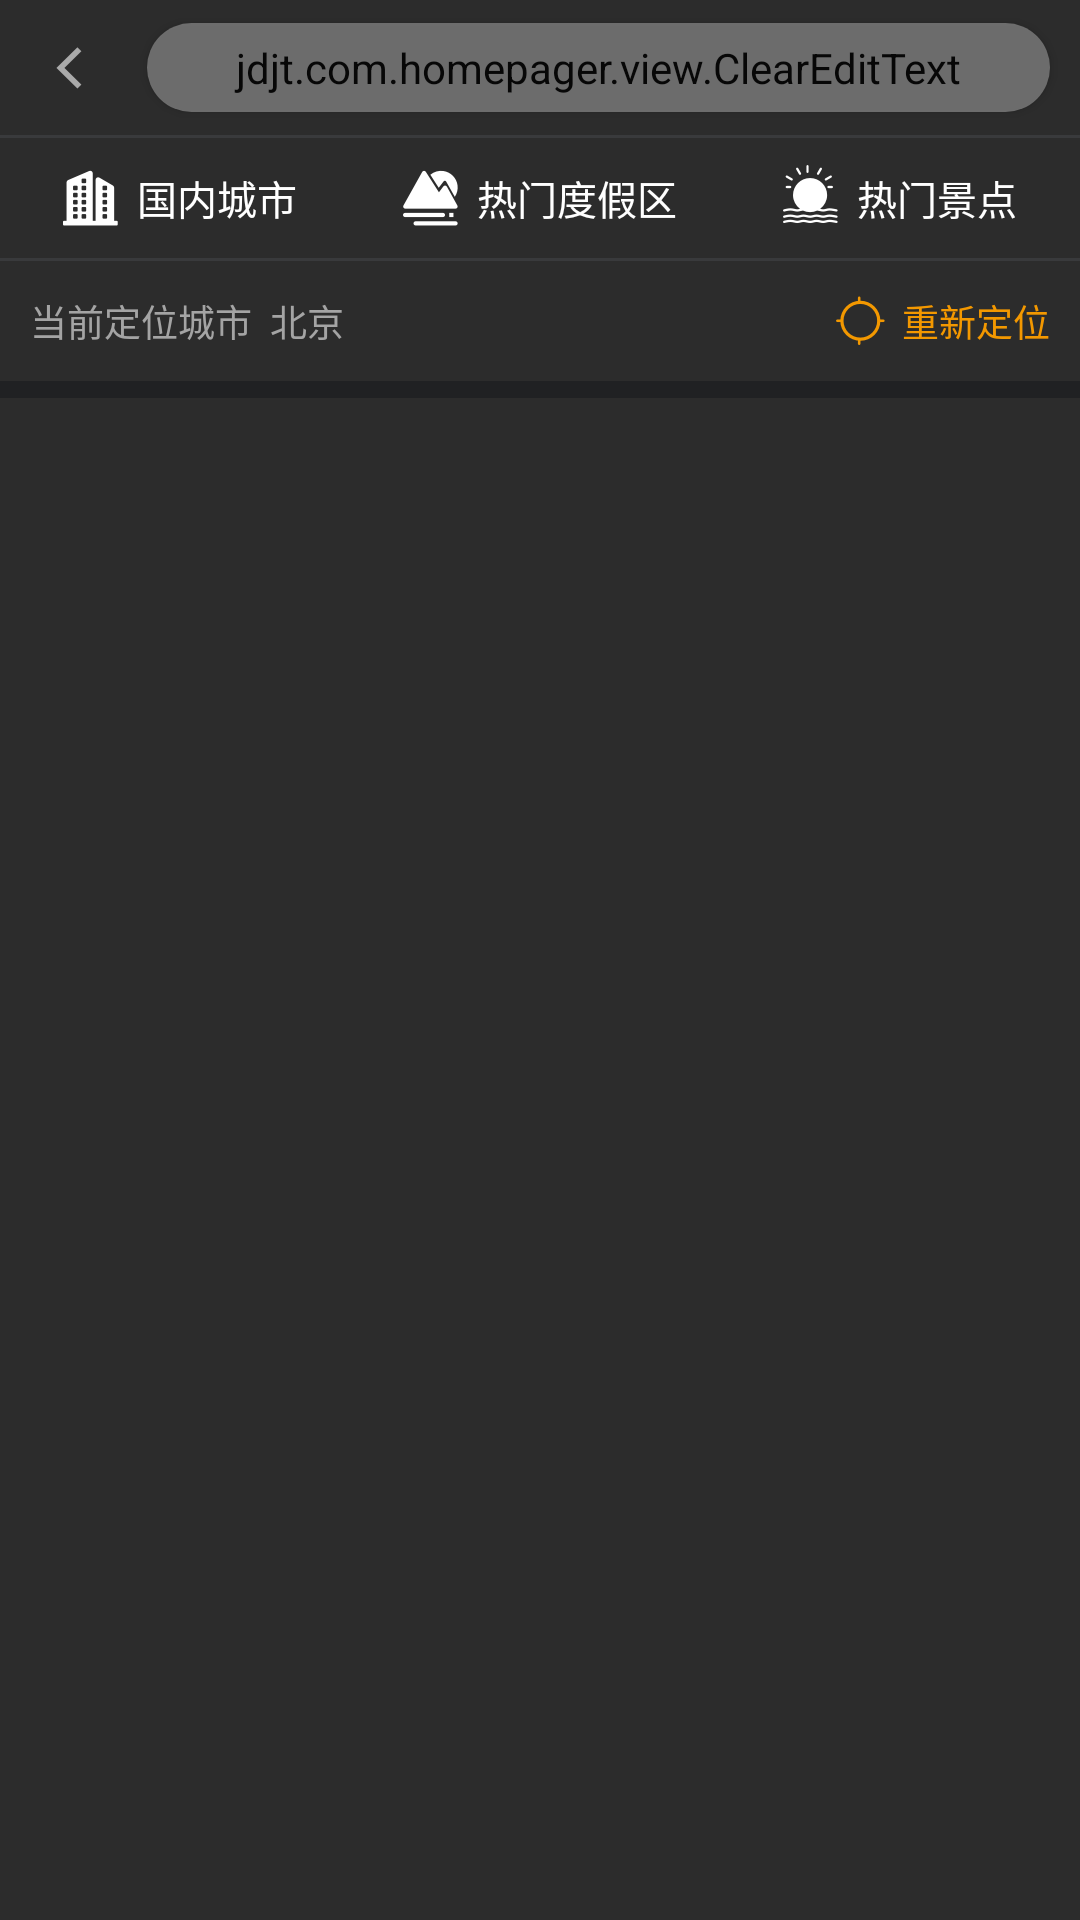

Icon bounding boxes for this 1080px x 1920px phone screenshot, format detection(x1, y1, x2, y2):
back: detection(57, 47, 81, 89)
